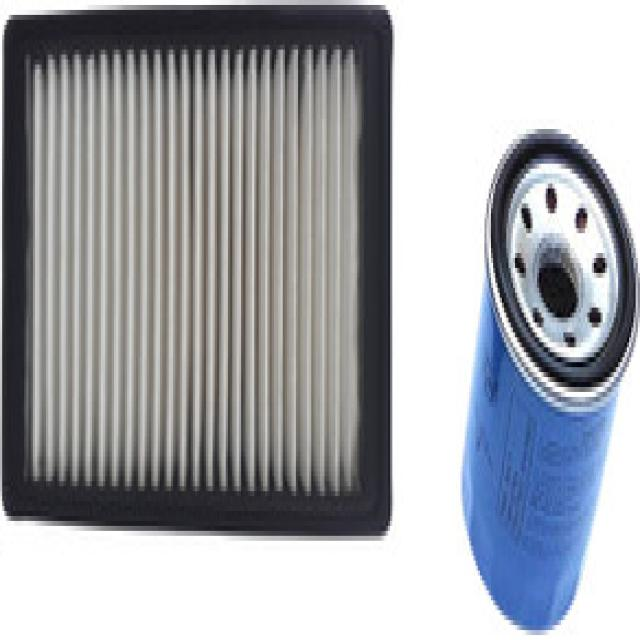air_filter: (0, 2, 394, 533)
oil_filter: (455, 114, 638, 640)
